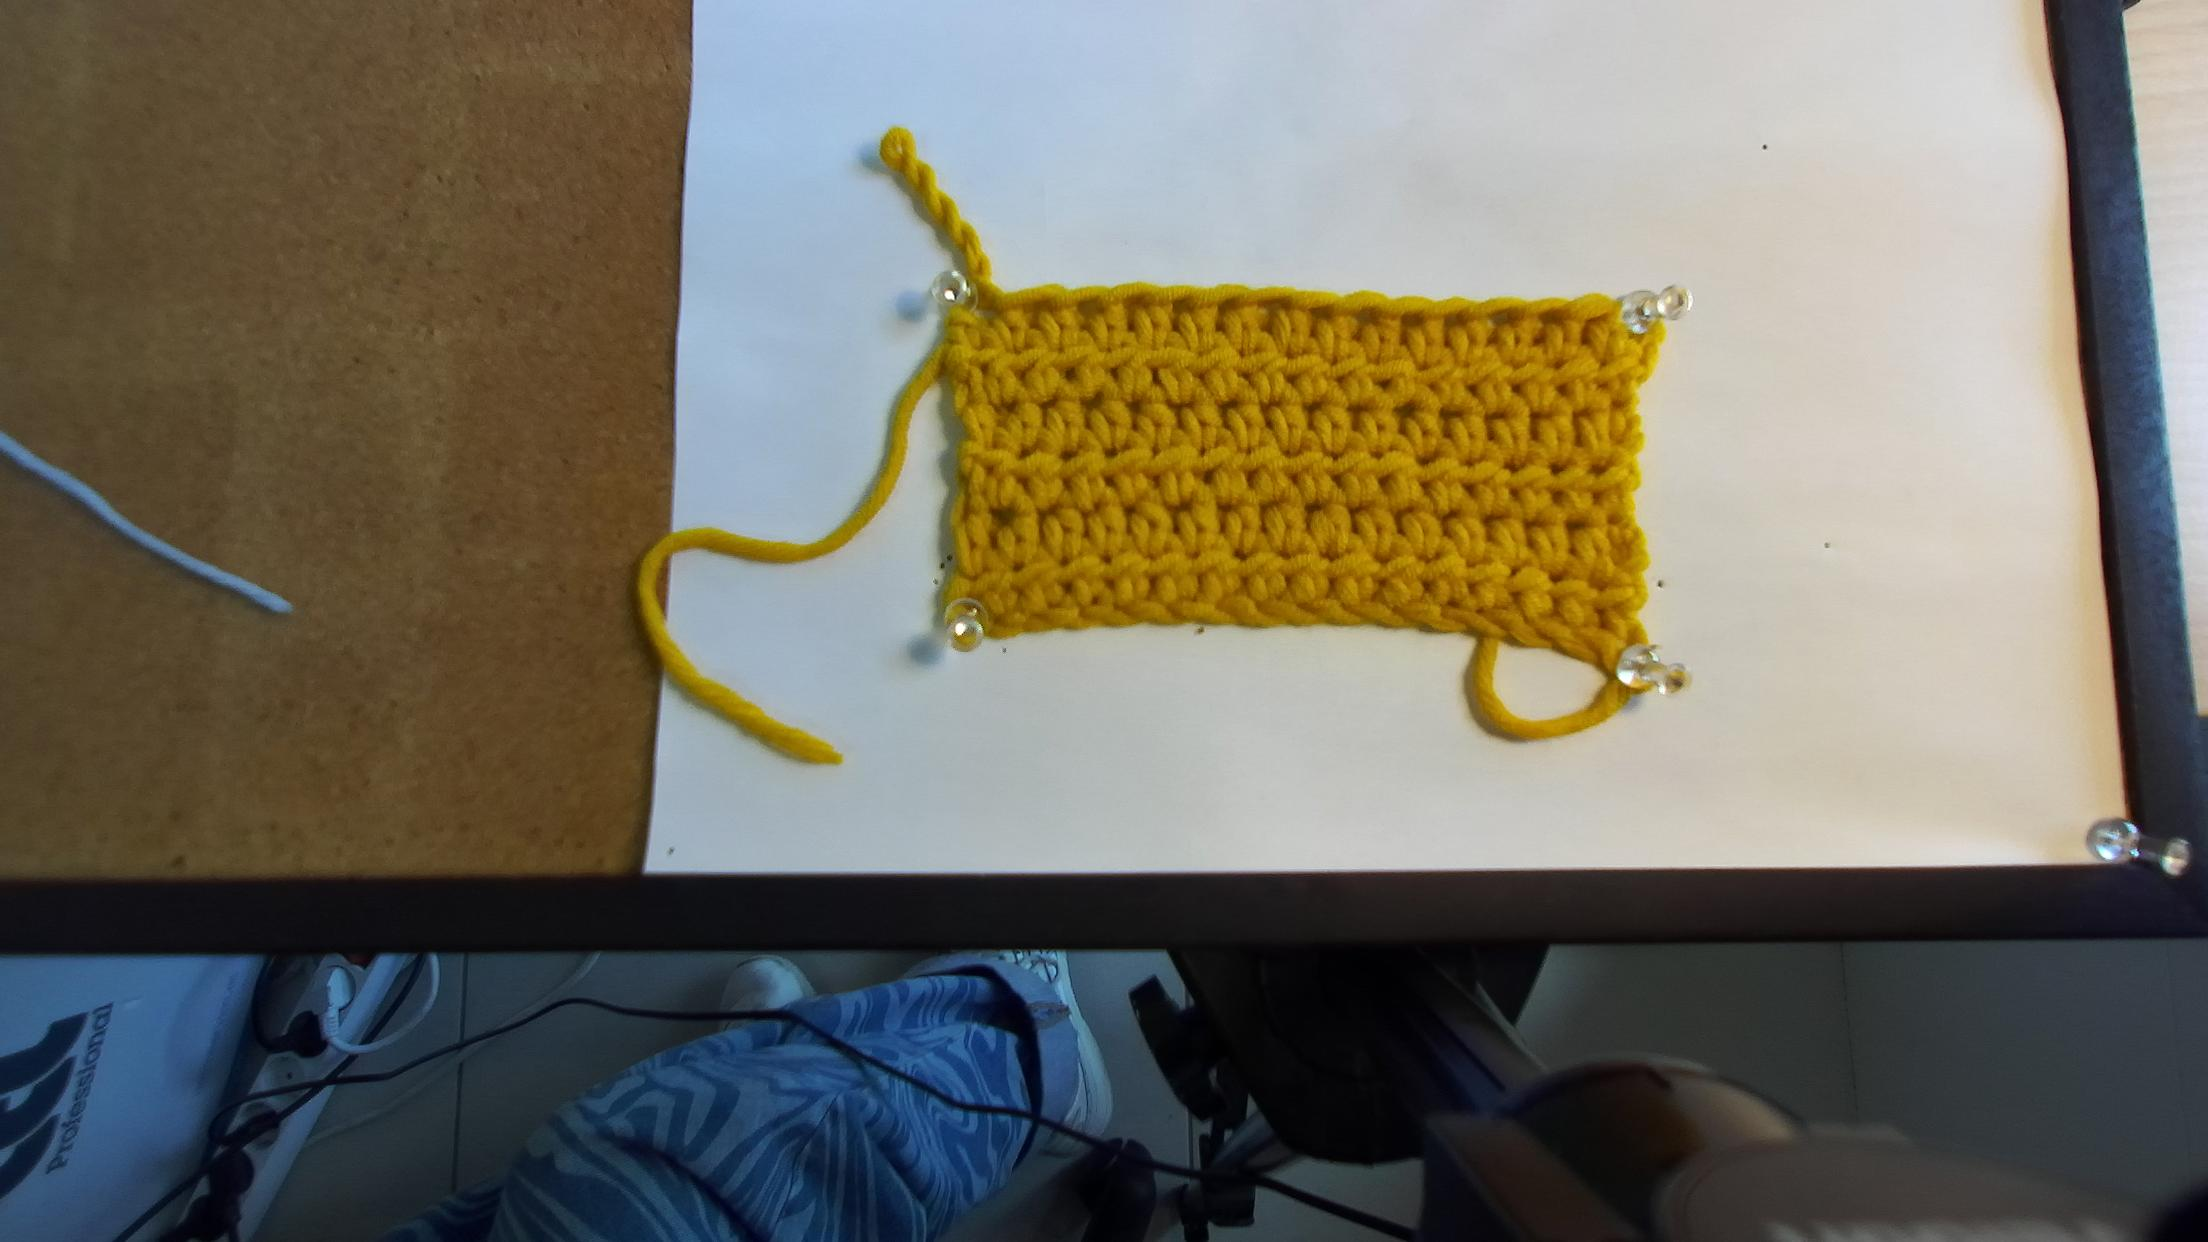hole: (1535, 308, 1564, 328), (1077, 299, 1102, 321), (1257, 296, 1286, 314), (1485, 308, 1514, 326), (1031, 298, 1052, 319), (1122, 297, 1144, 316), (1355, 307, 1377, 326), (1442, 310, 1464, 329), (1217, 297, 1236, 318), (1585, 310, 1608, 327), (1402, 313, 1426, 329), (1307, 304, 1332, 319), (1170, 298, 1189, 316), (976, 309, 1002, 321)
swatch: (928, 281, 1691, 678)
